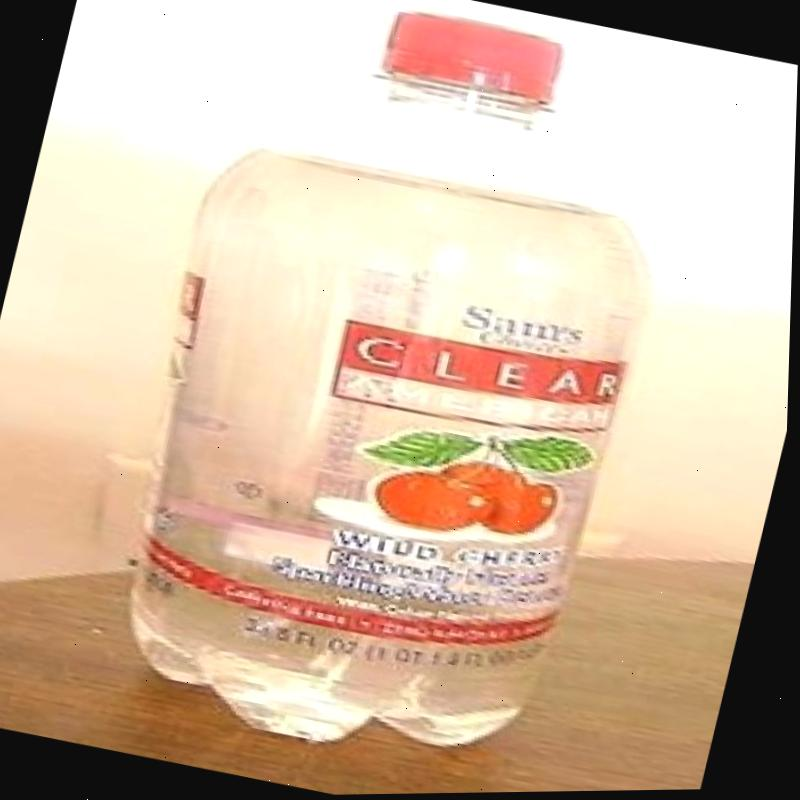botella: (87, 0, 708, 795)
